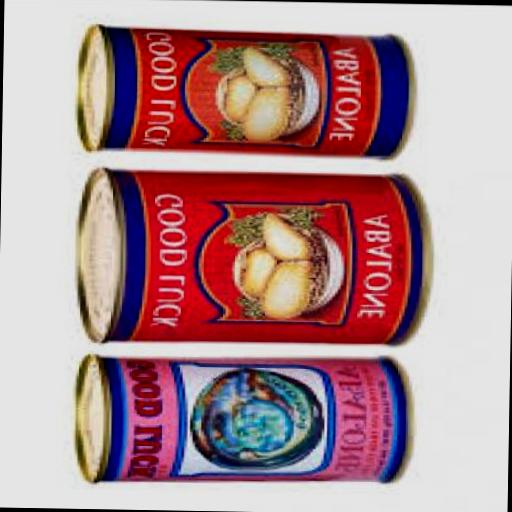metal: (74, 164, 436, 346), (72, 21, 410, 155), (69, 352, 404, 481)
